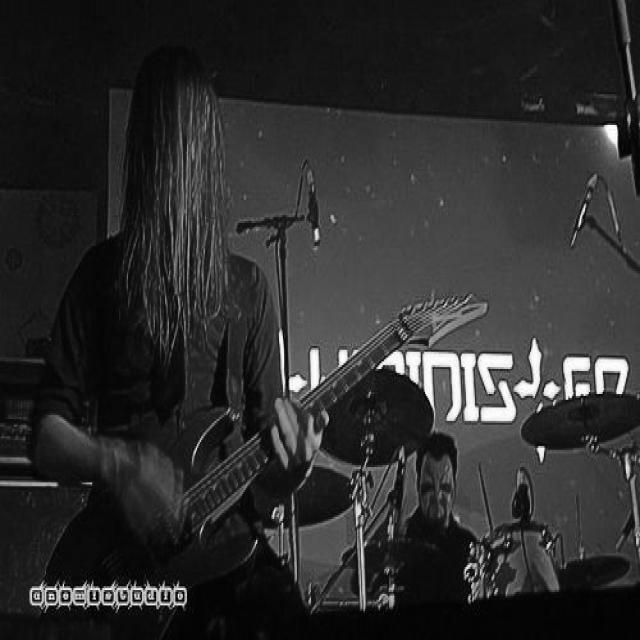Non-Gloves: (120, 441, 192, 542), (265, 383, 329, 492)
